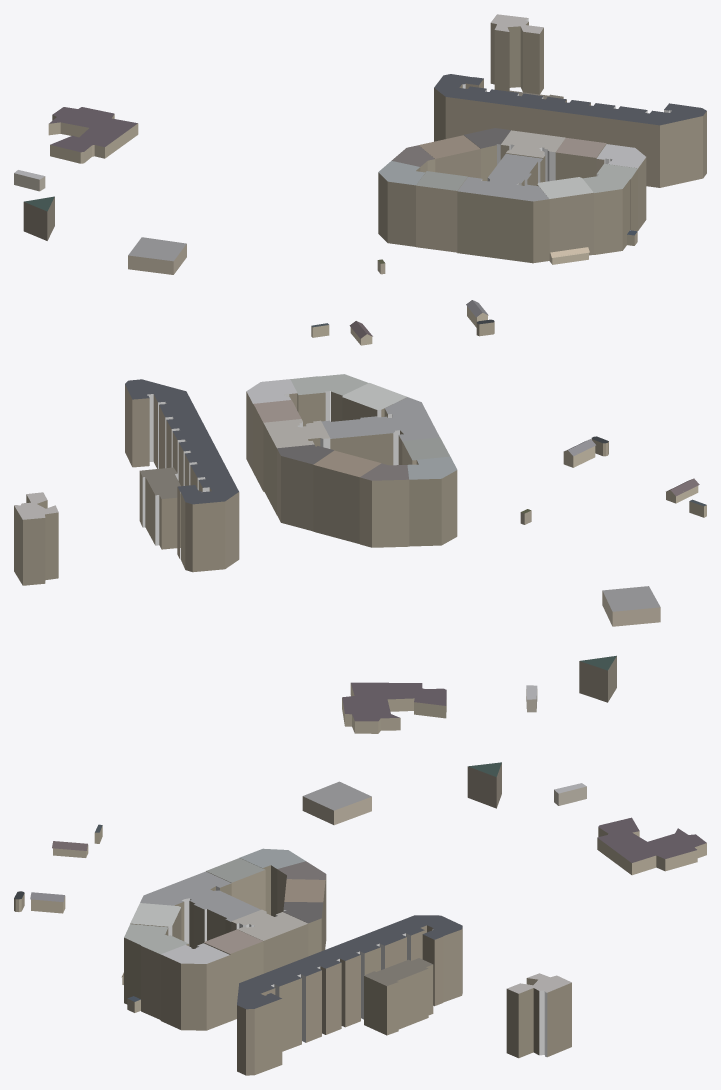
3 views of the same model, one above another, from view 1: azimuth 30°, elevation 25°; view 2: azimuth 150°, elevation 25°; view 3: azimuth 270°, elevation 25° (orthographic). The views are drawn at different scales.
Parts seen in each view (by area): view 1: tuile; view 2: tuile; view 3: tuile.
Part boxes in pixels (x1,y1,x2,y2): tuile: [14, 14, 706, 345]; tuile: [14, 374, 706, 733]; tuile: [14, 762, 706, 1075].
Bounding box in the file's own units: 269 × 32.62 × 270.
